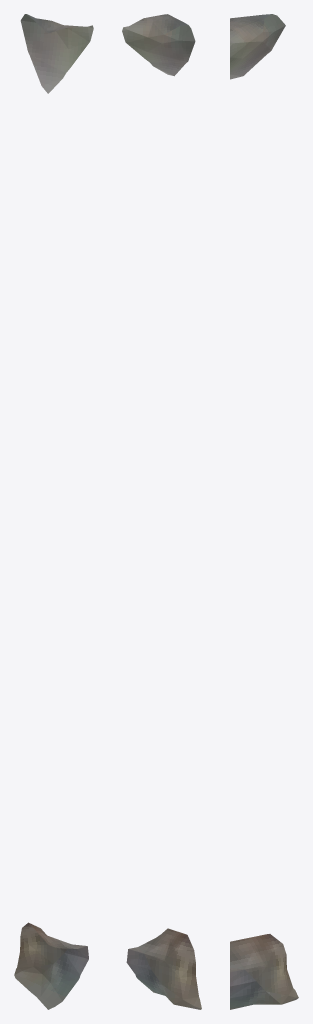
Rendered from Tile__004__001_L22_00030100.glb.
3 views of the same model, side by side, from view 1: azimuth 30°, elevation 25°; view 2: azimuth 210°, elevation 25°; view 3: azimuth 270°, elevation 25° (orthographic).
Visible parts, largest first — view 1: root; view 2: root; view 3: root.
Boxes of the visible parts, left/top/right/bottom form: root: left=14, top=14, right=93, bottom=1009; root: left=122, top=14, right=201, bottom=1009; root: left=230, top=14, right=298, bottom=1009.
Bounding box in the file's own units: 0.5751 × 11.81 × 0.7425.
1 material, 1 textured.
